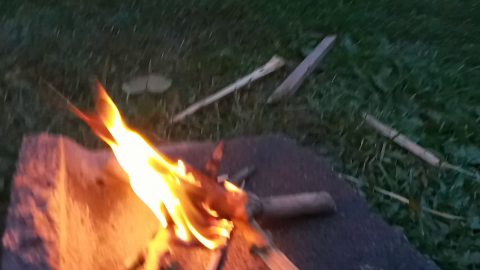fire: (51, 66, 268, 255)
